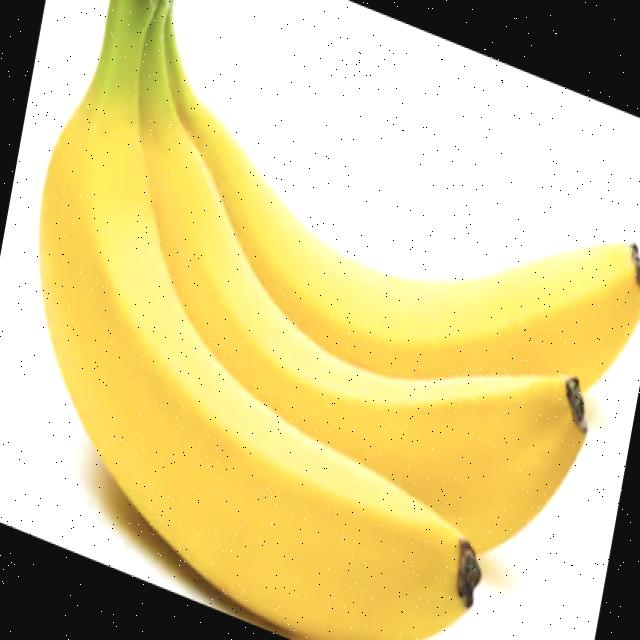god quality banana: (39, 2, 638, 637)
